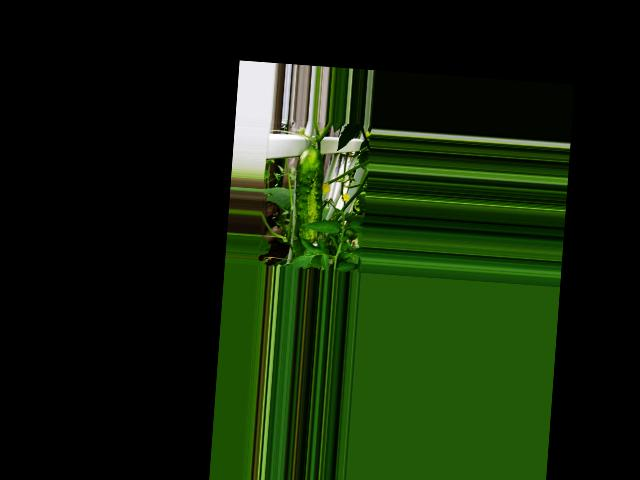cucumber: (291, 145, 325, 243)
